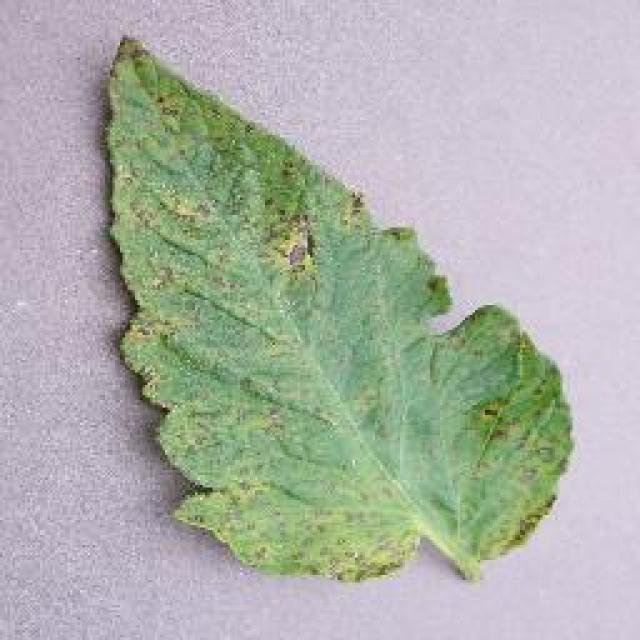Tomato Septoria spot leaf: (107, 36, 574, 582)
